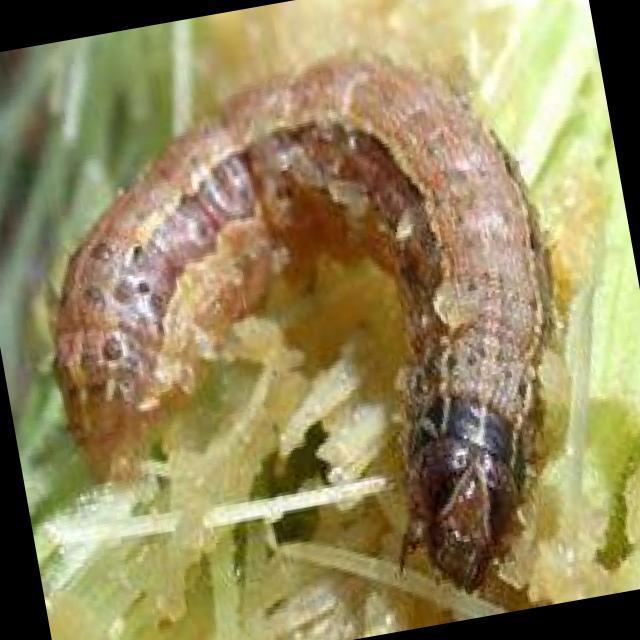Plaga: (1, 1, 620, 640)
